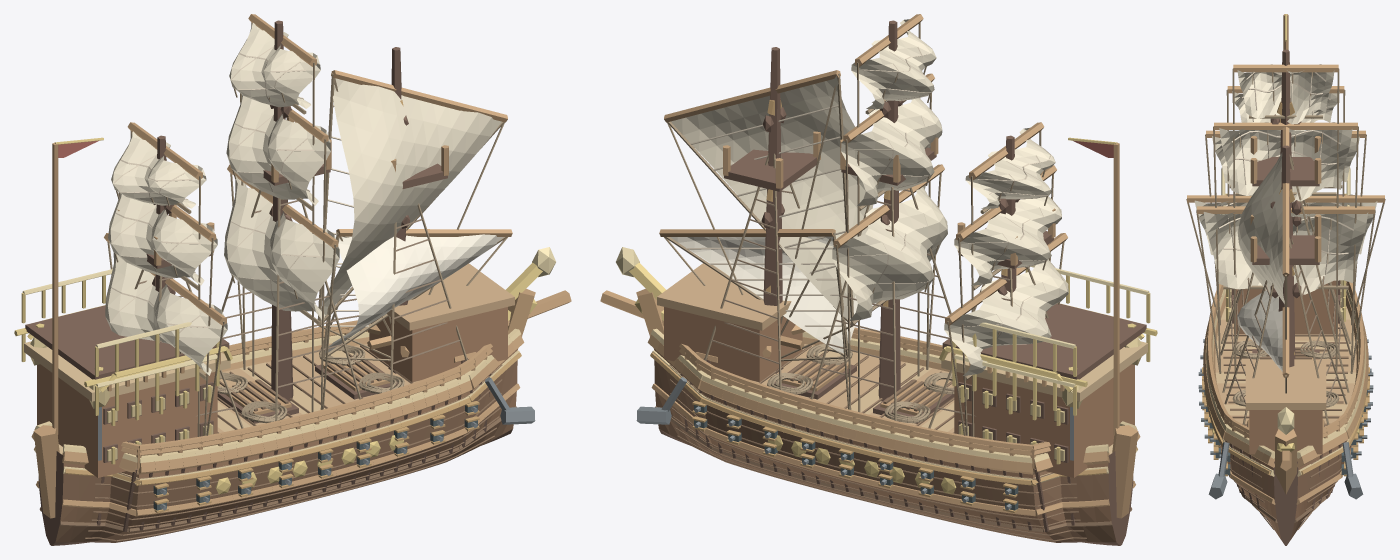
Rendered from galleon-v5-mobile.glb.
3 renders of one model, left to right at view 1: azimuth 30°, elevation 25°; view 2: azimuth 150°, elevation 25°; view 3: azimuth 270°, elevation 25°, orthographic. The views are drawn at different scales.
Visible parts, largest first — view 1: galleon_sails_sail, galleon_deck_hull2, galleon_hull_wood, galleon_hull_hull, galleon_sails_sailbright, galleon_hull_seam, galleon_rigging_rope, galleon_rigging_wood, galleon_deck_darkwood, galleon_railings_wood, galleon_hull_hull2, galleon_hull_pale (+24 smaller); view 2: galleon_sails_sail, galleon_deck_hull2, galleon_hull_wood, galleon_hull_hull, galleon_masts_darkwood, galleon_rigging_rope, galleon_hull_seam, galleon_rigging_wood, galleon_deck_darkwood, galleon_sails_sailbright, galleon_railings_wood, galleon_hull_hull2 (+24 smaller); view 3: galleon_sails_sail, galleon_rigging_wood, galleon_rigging_rope, galleon_masts_darkwood, galleon_deck_hull2, galleon_hull_wood, galleon_deck_deck, galleon_masts_rope, galleon_hull_deck, galleon_railings_wood, galleon_hull_seam, galleon_sails_sailbright (+15 smaller).
Boxes of the visible parts, <box> form: galleon_sails_sail: <box>105,23,501,375</box>; galleon_deck_hull2: <box>37,307,507,477</box>; galleon_hull_wood: <box>31,288,571,518</box>; galleon_hull_hull: <box>55,360,517,542</box>; galleon_sails_sailbright: <box>325,234,503,352</box>; galleon_hull_seam: <box>39,345,516,541</box>; galleon_rigging_rope: <box>107,22,507,436</box>; galleon_rigging_wood: <box>104,14,512,325</box>; galleon_deck_darkwood: <box>25,305,229,462</box>; galleon_railings_wood: <box>121,320,492,468</box>; galleon_hull_hull2: <box>60,349,517,529</box>; galleon_hull_pale: <box>34,328,520,484</box>; galleon_sails_sail: <box>671,19,1068,375</box>; galleon_deck_hull2: <box>664,307,1134,477</box>; galleon_hull_wood: <box>600,288,1140,518</box>; galleon_hull_hull: <box>654,360,1116,542</box>; galleon_masts_darkwood: <box>724,20,1053,401</box>; galleon_rigging_rope: <box>664,22,1064,436</box>; galleon_hull_seam: <box>655,345,1132,541</box>; galleon_rigging_wood: <box>659,14,1067,325</box>; galleon_deck_darkwood: <box>942,303,1146,462</box>; galleon_sails_sailbright: <box>670,236,857,353</box>; galleon_railings_wood: <box>679,327,1050,468</box>; galleon_hull_hull2: <box>654,349,1111,529</box>; galleon_sails_sail: <box>1194,64,1377,303</box>; galleon_rigging_wood: <box>1187,64,1384,377</box>; galleon_rigging_rope: <box>1186,68,1385,393</box>; galleon_masts_darkwood: <box>1252,49,1319,367</box>; galleon_deck_hull2: <box>1234,280,1337,454</box>; galleon_hull_wood: <box>1203,291,1368,504</box>; galleon_deck_deck: <box>1245,359,1326,409</box>; galleon_masts_rope: <box>1220,154,1351,425</box>; galleon_hull_deck: <box>1215,301,1356,426</box>; galleon_railings_wood: <box>1207,280,1364,438</box>; galleon_hull_seam: <box>1219,304,1352,529</box>; galleon_sails_sailbright: <box>1237,290,1282,371</box>.
Bounding box in the file's own units: 56.61 × 48.47 × 21.57.
